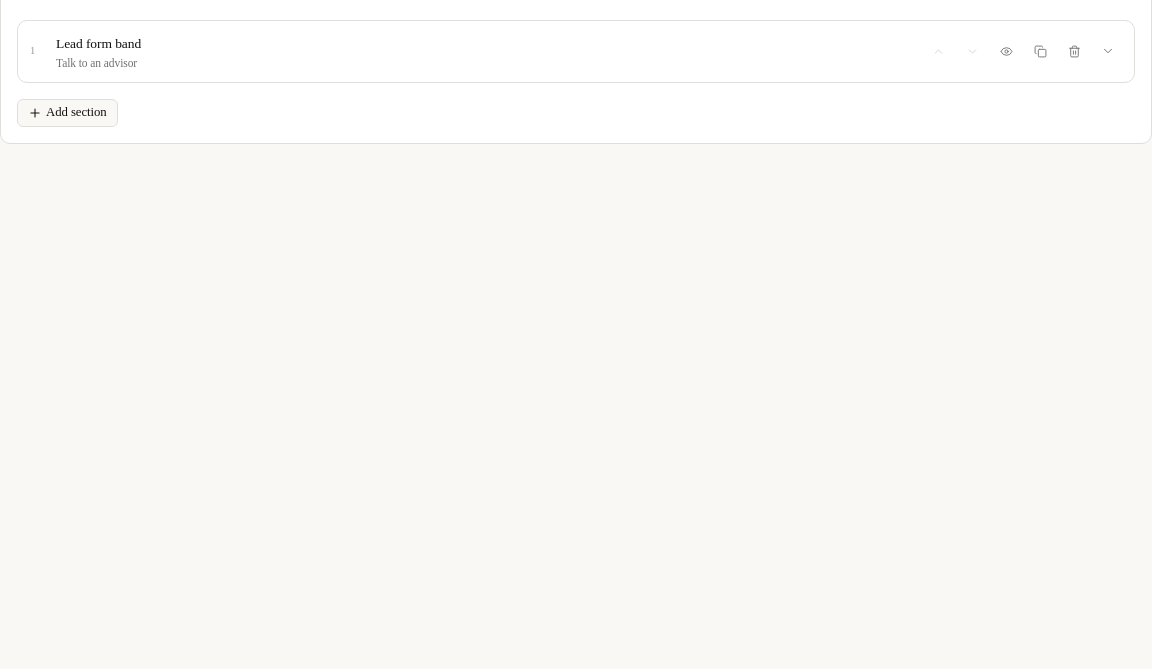
it: BlockEditor — form picker preview › asks for a choice when no form is picked
Click the button named "Expand": (1108, 51) [1094,37,1122,65]
(page scrolled)
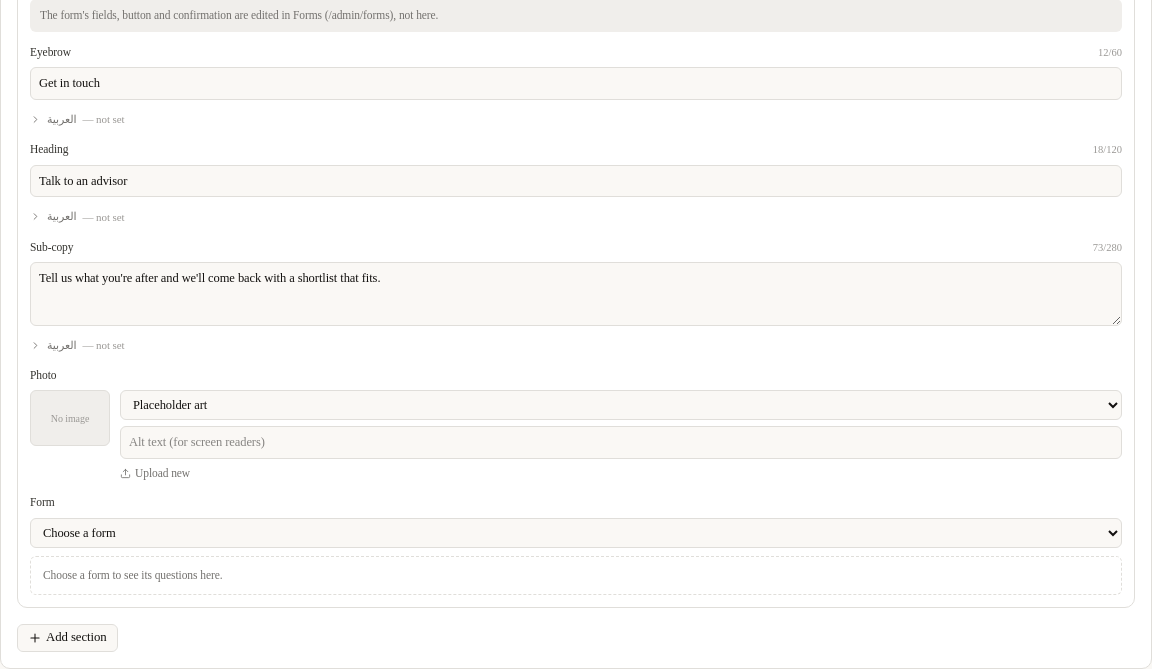
Expected: the text "Choose a form to see its questions here." is shown, [30,556,1122,595]
